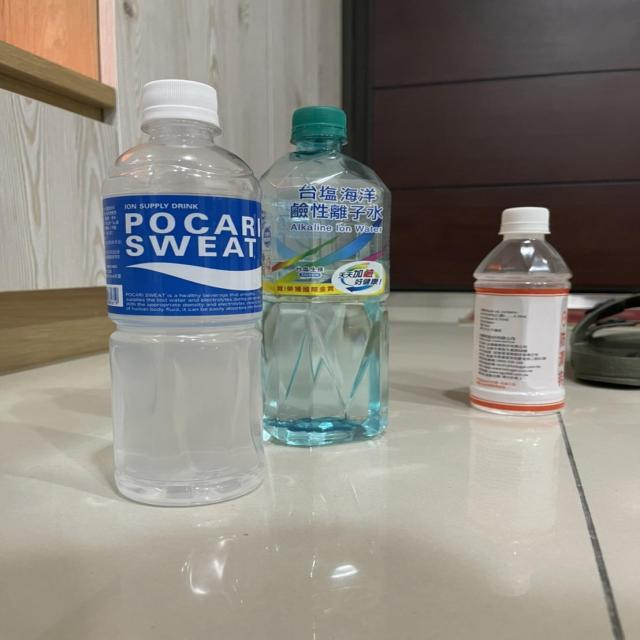bottle: (90, 73, 281, 516), (260, 106, 395, 452), (464, 206, 578, 425)
